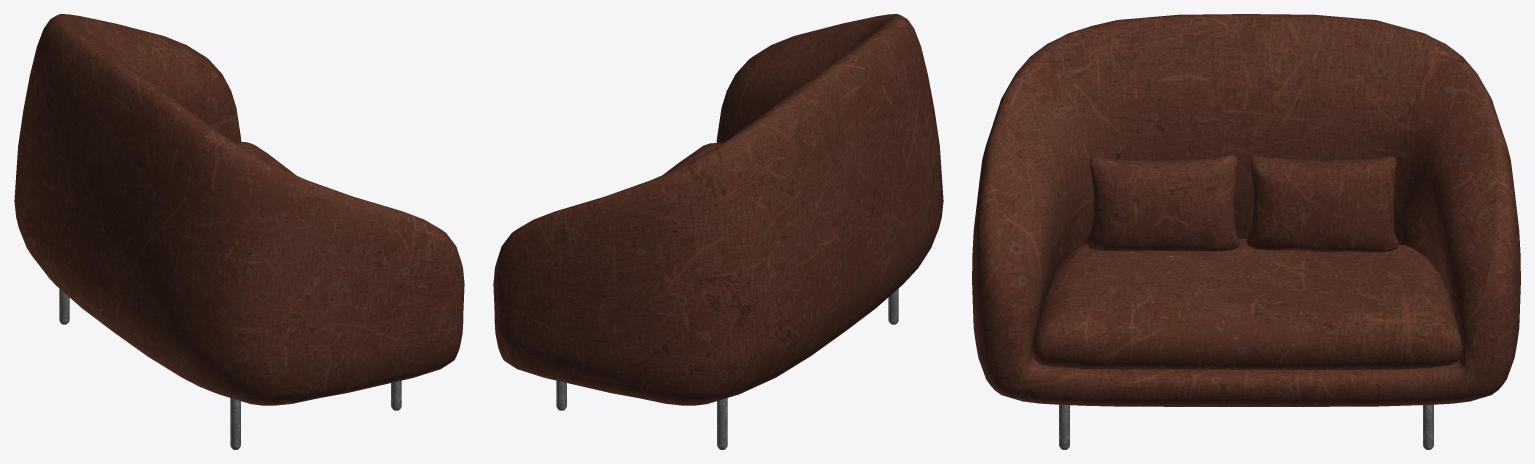
The model's file is seater.fbx.
The picture shows the model from 3 angles, left to right: view 1: azimuth 30°, elevation 25°; view 2: azimuth 150°, elevation 25°; view 3: azimuth 270°, elevation 25°; orthographic projection. The views are drawn at different scales.
Parts seen in each view (by area): view 1: Haiku_two_seater, Haiku_two_seater.001; view 2: Haiku_two_seater, Haiku_two_seater.001; view 3: Haiku_two_seater, Haiku_two_seater.001.
Boxes of the visible parts, x1=… form: Haiku_two_seater: x1=14, y1=14, x2=464, y2=405; Haiku_two_seater.001: x1=59, y1=289, x2=401, y2=449; Haiku_two_seater: x1=493, y1=14, x2=943, y2=405; Haiku_two_seater.001: x1=556, y1=289, x2=898, y2=449; Haiku_two_seater: x1=972, y1=14, x2=1520, y2=406; Haiku_two_seater.001: x1=1059, y1=404, x2=1433, y2=449.
Bounding box in the file's own units: 2552 × 3044 × 4465.
Materials: 2 (2 with a texture image).
